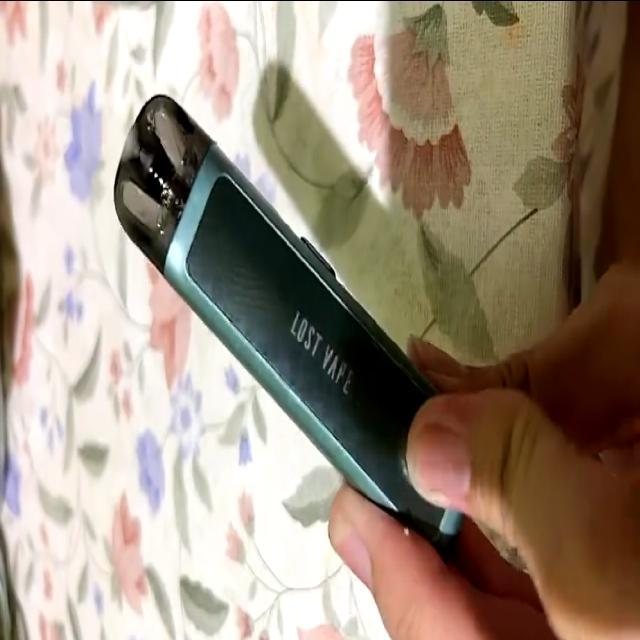Hazard: (111, 90, 464, 573)
